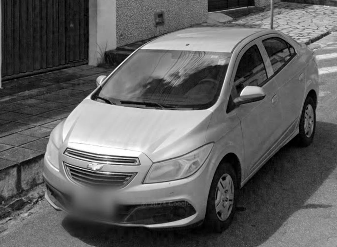car: (42, 26, 318, 229)
